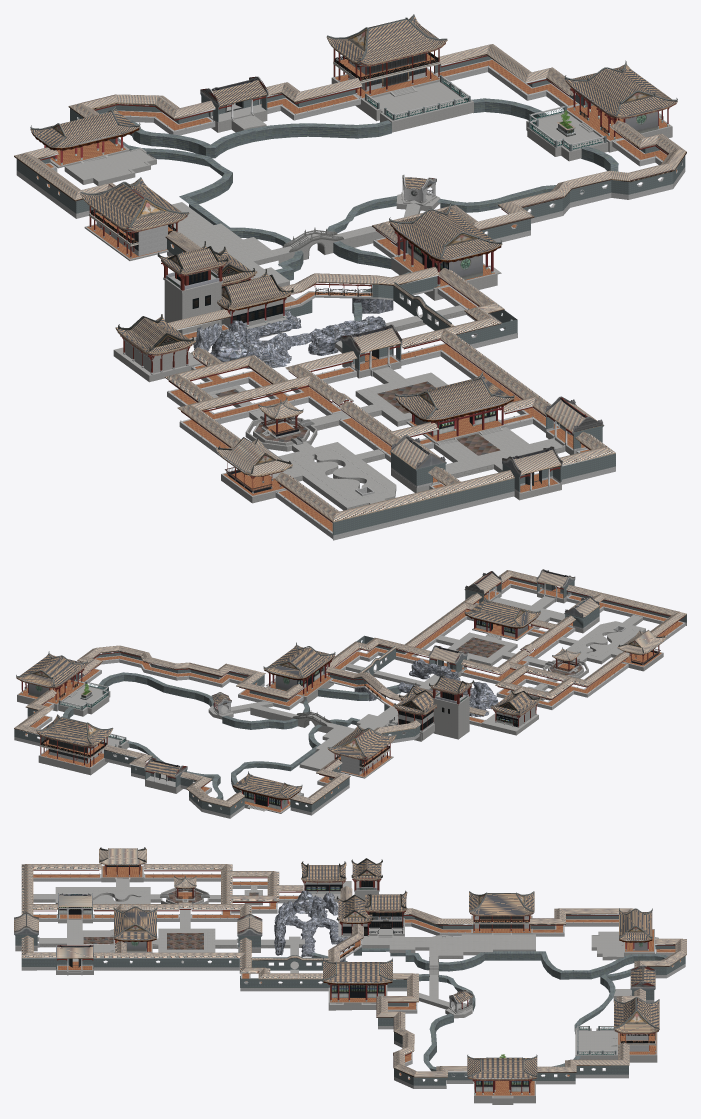
The model's file is ancient_chinese_courtyard_park.glb.
3 renders of one model, top to bottom at view 1: azimuth 30°, elevation 25°; view 2: azimuth 150°, elevation 25°; view 3: azimuth 270°, elevation 25°, orthographic. The views are drawn at different scales.
Parts seen in each view (by area): view 1: FF22_zhuan02.jpg_0, FF23_Yazhiyuan06.jpg_0, FF24_zhuan01.jpg_0, FF06_tingzhiyuan_02.jpg_0, FF20_zhuan05.jpg_0, FF01_zhuan04.jpg_0, FF17_fangcong_fangzi.jpg_0, FF18_jiashan02.jpg_0, FF16_fangcong_fangzi02.jpg_0, FF04_dingzhiyi3.jpg_0, FF15_fangcong_tingzi.png_0, FF02_KHFC_07.jpg_0 (+7 smaller); view 2: FF22_zhuan02.jpg_0, FF23_Yazhiyuan06.jpg_0, FF24_zhuan01.jpg_0, FF06_tingzhiyuan_02.jpg_0, FF20_zhuan05.jpg_0, FF01_zhuan04.jpg_0, FF17_fangcong_fangzi.jpg_0, FF16_fangcong_fangzi02.jpg_0, FF18_jiashan02.jpg_0, FF04_dingzhiyi3.jpg_0, FF08_tingzhiyuan_01.jpg_0, FF15_fangcong_tingzi.png_0 (+7 smaller); view 3: FF22_zhuan02.jpg_0, FF23_Yazhiyuan06.jpg_0, FF24_zhuan01.jpg_0, FF06_tingzhiyuan_02.jpg_0, FF20_zhuan05.jpg_0, FF01_zhuan04.jpg_0, FF16_fangcong_fangzi02.jpg_0, FF18_jiashan02.jpg_0, FF17_fangcong_fangzi.jpg_0, FF21_zhuan03.jpg_0, FF04_dingzhiyi3.jpg_0, FF12_KHFC_01.jpg_0 (+5 smaller).
Boxes of the visible parts, left/top/right/bottom form: FF22_zhuan02.jpg_0: left=50, top=53, right=672, bottom=510; FF23_Yazhiyuan06.jpg_0: left=14, top=44, right=686, bottom=522; FF24_zhuan01.jpg_0: left=16, top=55, right=685, bottom=535; FF06_tingzhiyuan_02.jpg_0: left=31, top=16, right=676, bottom=419; FF20_zhuan05.jpg_0: left=16, top=56, right=685, bottom=540; FF01_zhuan04.jpg_0: left=37, top=54, right=676, bottom=531; FF17_fangcong_fangzi.jpg_0: left=40, top=49, right=669, bottom=522; FF18_jiashan02.jpg_0: left=193, top=298, right=393, bottom=368; FF16_fangcong_fangzi02.jpg_0: left=53, top=29, right=652, bottom=473; FF04_dingzhiyi3.jpg_0: left=30, top=14, right=677, bottom=418; FF15_fangcong_tingzi.png_0: left=31, top=112, right=607, bottom=492; FF02_KHFC_07.jpg_0: left=44, top=72, right=668, bottom=440; FF22_zhuan02.jpg_0: left=17, top=587, right=663, bottom=813; FF23_Yazhiyuan06.jpg_0: left=14, top=570, right=686, bottom=807; FF24_zhuan01.jpg_0: left=14, top=577, right=686, bottom=815; FF06_tingzhiyuan_02.jpg_0: left=17, top=599, right=540, bottom=797; FF20_zhuan05.jpg_0: left=14, top=579, right=686, bottom=818; FF01_zhuan04.jpg_0: left=19, top=580, right=682, bottom=812; FF17_fangcong_fangzi.jpg_0: left=21, top=569, right=684, bottom=801; FF16_fangcong_fangzi02.jpg_0: left=32, top=573, right=665, bottom=809; FF18_jiashan02.jpg_0: left=354, top=659, right=498, bottom=717; FF04_dingzhiyi3.jpg_0: left=16, top=597, right=540, bottom=797; FF08_tingzhiyuan_01.jpg_0: left=16, top=612, right=541, bottom=798; FF15_fangcong_tingzi.png_0: left=61, top=613, right=661, bottom=800; FF22_zhuan02.jpg_0: left=15, top=865, right=658, bottom=1104; FF23_Yazhiyuan06.jpg_0: left=14, top=848, right=686, bottom=1077; FF24_zhuan01.jpg_0: left=14, top=907, right=685, bottom=1085; FF06_tingzhiyuan_02.jpg_0: left=114, top=860, right=659, bottom=1078; FF20_zhuan05.jpg_0: left=15, top=866, right=685, bottom=1088; FF01_zhuan04.jpg_0: left=33, top=866, right=680, bottom=1095; FF16_fangcong_fangzi02.jpg_0: left=56, top=847, right=655, bottom=1091; FF18_jiashan02.jpg_0: left=274, top=890, right=347, bottom=961; FF17_fangcong_fangzi.jpg_0: left=14, top=865, right=675, bottom=1083; FF21_zhuan03.jpg_0: left=83, top=890, right=258, bottom=949; FF04_dingzhiyi3.jpg_0: left=113, top=891, right=659, bottom=1076; FF12_KHFC_01.jpg_0: left=302, top=878, right=658, bottom=1080.
Size of the model in its own units: 143 by 16.54 by 176.
24 materials, 24 textured.
